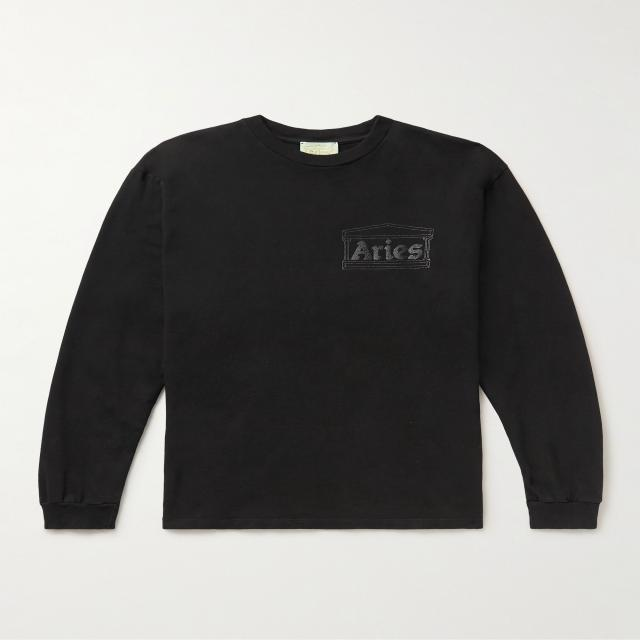tshirt: (35, 115, 605, 533)
